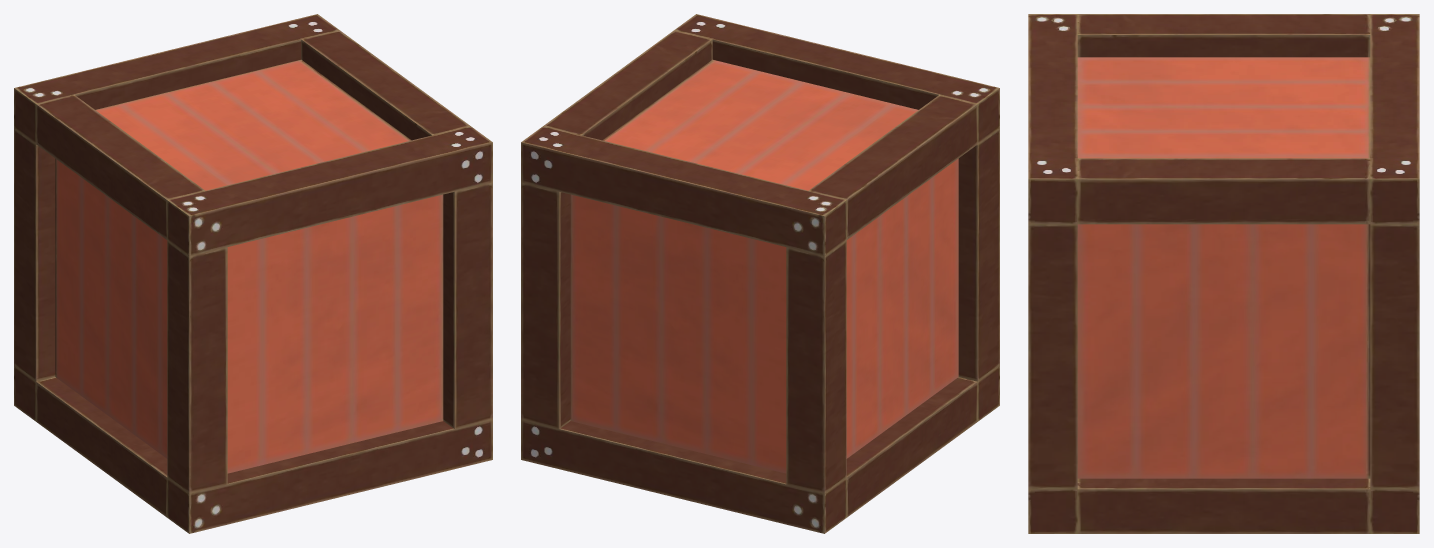
Rendered from crate.glb.
3 renders of one model, left to right at view 1: azimuth 30°, elevation 25°; view 2: azimuth 150°, elevation 25°; view 3: azimuth 270°, elevation 25°, orthographic. The views are drawn at different scales.
Parts seen in each view (by area): view 1: Crate; view 2: Crate; view 3: Crate.
Part boxes in pixels (<box>): Crate: <box>14,14,492,533</box>; Crate: <box>521,14,999,533</box>; Crate: <box>1028,14,1419,533</box>.
Bounding box in the file's own units: 0.8283 × 0.8283 × 0.8283.
1 material, 1 textured.
